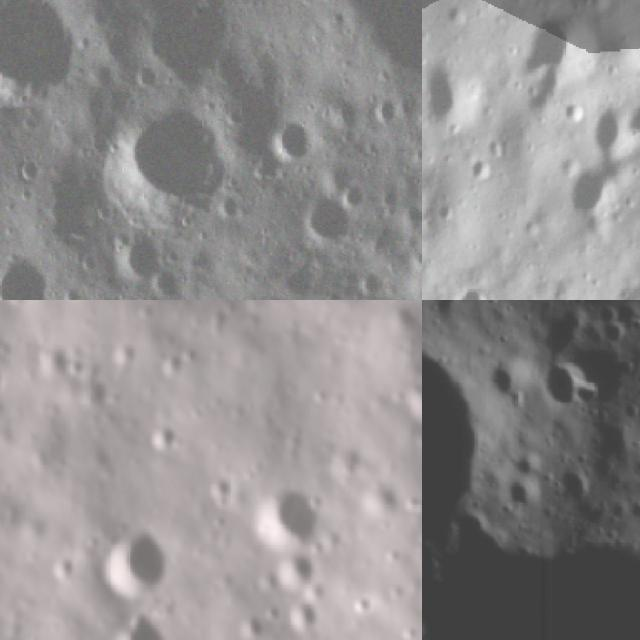crater: (422, 301, 599, 592), (422, 557, 640, 640), (123, 104, 225, 214), (0, 0, 88, 108), (136, 0, 240, 86), (523, 10, 602, 104), (104, 535, 174, 600), (422, 51, 477, 133), (560, 159, 625, 223), (115, 231, 175, 292), (260, 486, 316, 544), (0, 246, 57, 300), (537, 360, 591, 413), (484, 352, 538, 404), (586, 102, 633, 160), (297, 193, 350, 244), (274, 115, 314, 168), (502, 474, 544, 520), (160, 346, 194, 392), (354, 263, 395, 300), (275, 558, 318, 592), (557, 461, 595, 499), (509, 446, 547, 484), (139, 422, 181, 456), (112, 615, 163, 640), (278, 601, 314, 636), (373, 85, 402, 126), (461, 152, 495, 186), (331, 184, 365, 213), (344, 590, 372, 622), (624, 95, 640, 150), (438, 196, 463, 229), (458, 283, 493, 300), (406, 385, 422, 422), (404, 204, 422, 235)
